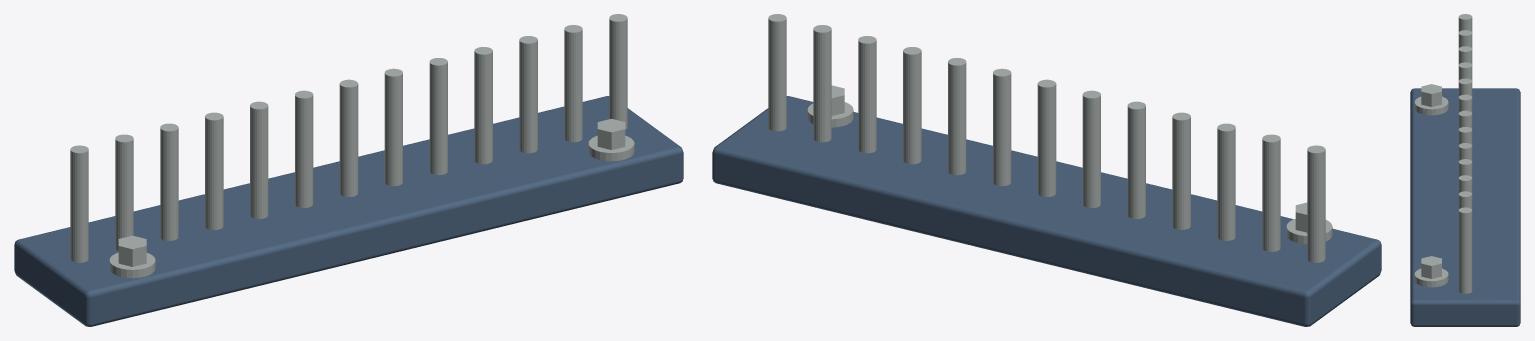
The model's file is spacecraft-parachute-packing-hall-spacecraft-parachute-1e2af1a5__32081.glb.
3 renders of one model, left to right at view 1: azimuth 30°, elevation 25°; view 2: azimuth 150°, elevation 25°; view 3: azimuth 270°, elevation 25°, orthographic. The views are drawn at different scales.
Visible parts, largest first — view 1: spacecraft-parachute-packing-hall-suspension-line-comb; view 2: spacecraft-parachute-packing-hall-suspension-line-comb; view 3: spacecraft-parachute-packing-hall-suspension-line-comb.
Boxes of the visible parts, x1,y1,x2,y2 form: spacecraft-parachute-packing-hall-suspension-line-comb: (14, 14, 683, 326); spacecraft-parachute-packing-hall-suspension-line-comb: (712, 14, 1381, 326); spacecraft-parachute-packing-hall-suspension-line-comb: (1410, 14, 1520, 326).
Size of the model in its own units: 0.6 by 0.14 by 0.13.
